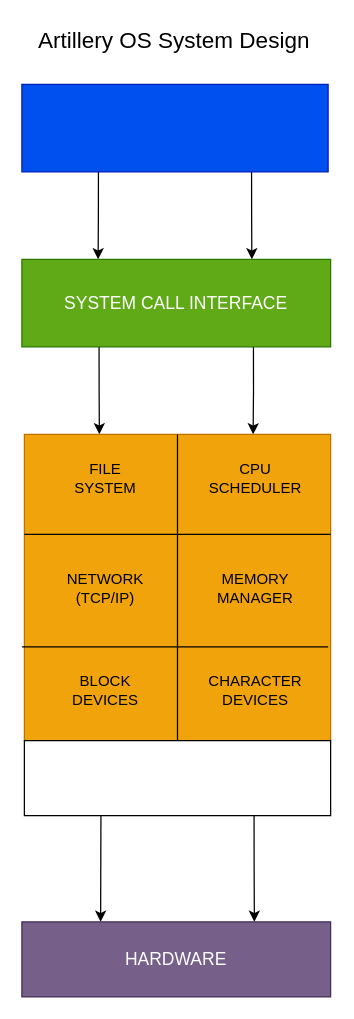
The diagram is 354 pixels wide and 1019 high, and some of its shapes have lost their labels. The centre of each missing label's shape, as x and y in pixels:
DEVICE DRIVERS: (x=177, y=777)
USER LAND + STD C LIB: (x=174, y=127)
